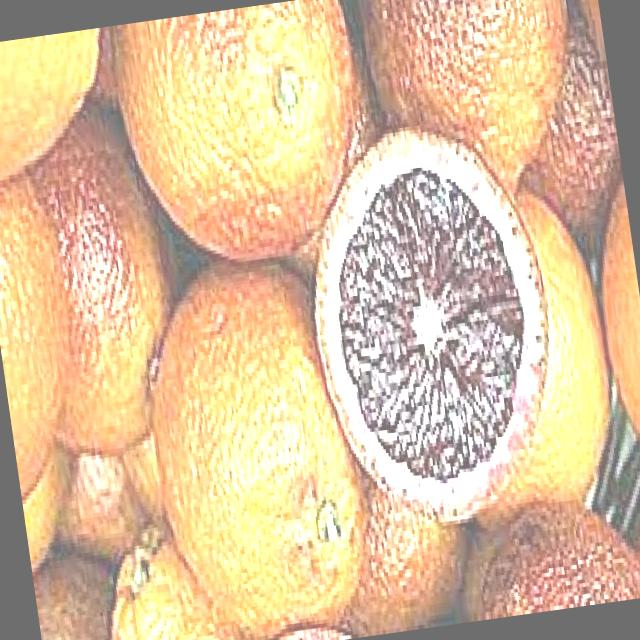Orange: (123, 242, 388, 640), (107, 0, 381, 280), (1, 102, 187, 464), (437, 190, 629, 525), (356, 0, 592, 215), (0, 159, 89, 497), (322, 478, 471, 638), (586, 185, 640, 469)
